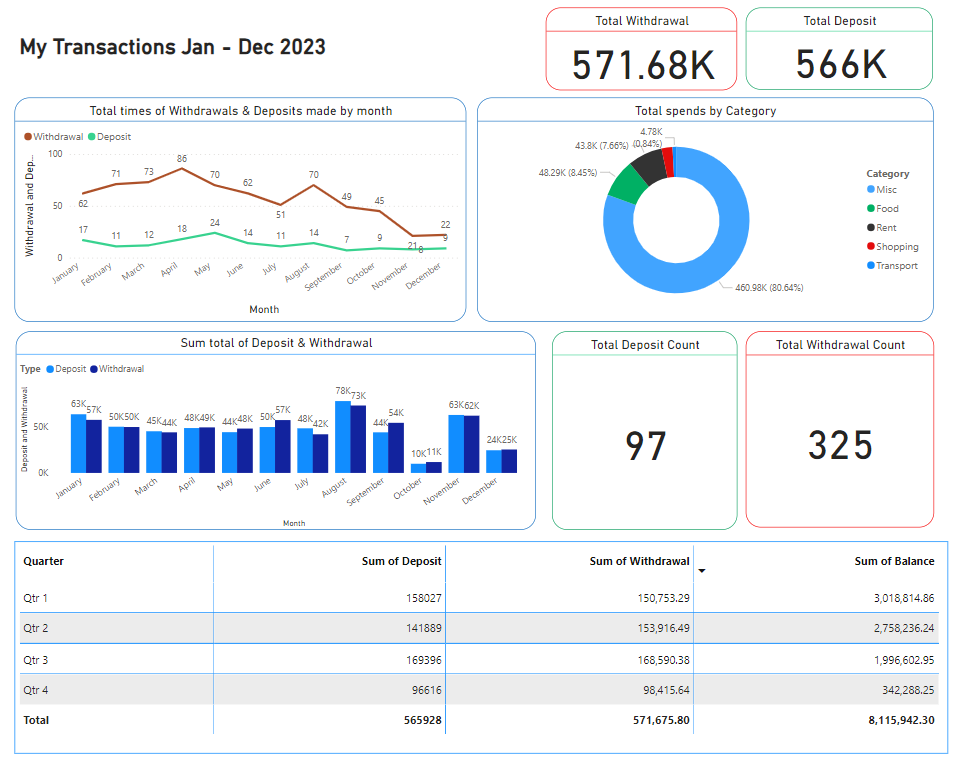

What the dashboard file says about the page in this screenshot:
{"tool":"powerbi","page":{"name":"Page 1","canvas":[1280,1020],"ordinal":0},"visuals":[{"type":"clusteredColumnChart","title":"Sum total of Deposit & Withdrawal","fields":{"Category":["Bank.Date.Variation.Date Hierarchy.Month"],"Y":["Sum(Bank.Deposit)","Sum(Bank.Withdrawal)"]},"box":[24.8,441.2,693.5,264.7],"z":0},{"type":"card","title":"Total Withdrawal","fields":{"Values":["Sum(Bank.Withdrawal)"]},"box":[731.5,9.5,255.4,110.4],"z":1000},{"type":"card","title":"Total Deposit","fields":{"Values":["Sum(Bank.Deposit)"]},"box":[998.6,9.4,249.6,109.7],"z":2000},{"type":"donutChart","title":"Total spends by Category","fields":{"Y":["Sum(Bank.Withdrawal)"],"Category":["Bank.Category"]},"box":[640.1,129.3,608.5,299.5],"z":3000},{"type":"lineChart","title":"Total times of Withdrawals & Deposits made by month","fields":{"Category":["Bank.Date.Variation.Date Hierarchy.Month"],"Y":["Count(Bank.Withdrawal)","Count(Bank.Deposit)"]},"box":[23.6,129.3,602.2,299.5],"z":4000},{"type":"card","title":"Total Deposit Count","fields":{"Values":["Count(Bank.Deposit)"]},"box":[739.4,441.4,247.5,264.9],"z":5000},{"type":"card","title":"Total Withdrawal Count","fields":{"Values":["Count(Bank.Withdrawal)"]},"box":[998,441.2,251.3,261.3],"z":6000},{"type":"textbox","box":[24.8,39.2,574.5,51.9],"z":7000},{"type":"tableEx","fields":{"Values":["Bank.Date.Variation.Date Hierarchy.Quarter","Sum(Bank.Deposit)","Sum(Bank.Withdrawal)","Sum(Bank.Balance)"]},"box":[23.3,721.7,1245,283.3],"z":8000}]}

Visuals, with their boxes in screenshot pixels (x1, y1, x2, y2), scaled from the page's 1280x1020 canvas onto the 956x759 screenshot:
"Sum total of Deposit & Withdrawal" clusteredColumnChart: 19, 328, 536, 525
"Total Withdrawal" card: 546, 7, 737, 89
"Total Deposit" card: 746, 7, 932, 89
"Total spends by Category" donutChart: 478, 96, 933, 319
"Total times of Withdrawals & Deposits made by month" lineChart: 18, 96, 467, 319
"Total Deposit Count" card: 552, 328, 737, 526
"Total Withdrawal Count" card: 745, 328, 933, 523
textbox: 19, 29, 448, 68
tableEx - Bank.Date.Variation.Date Hierarchy.Quarter x Sum(Bank.Deposit): 17, 537, 947, 748
